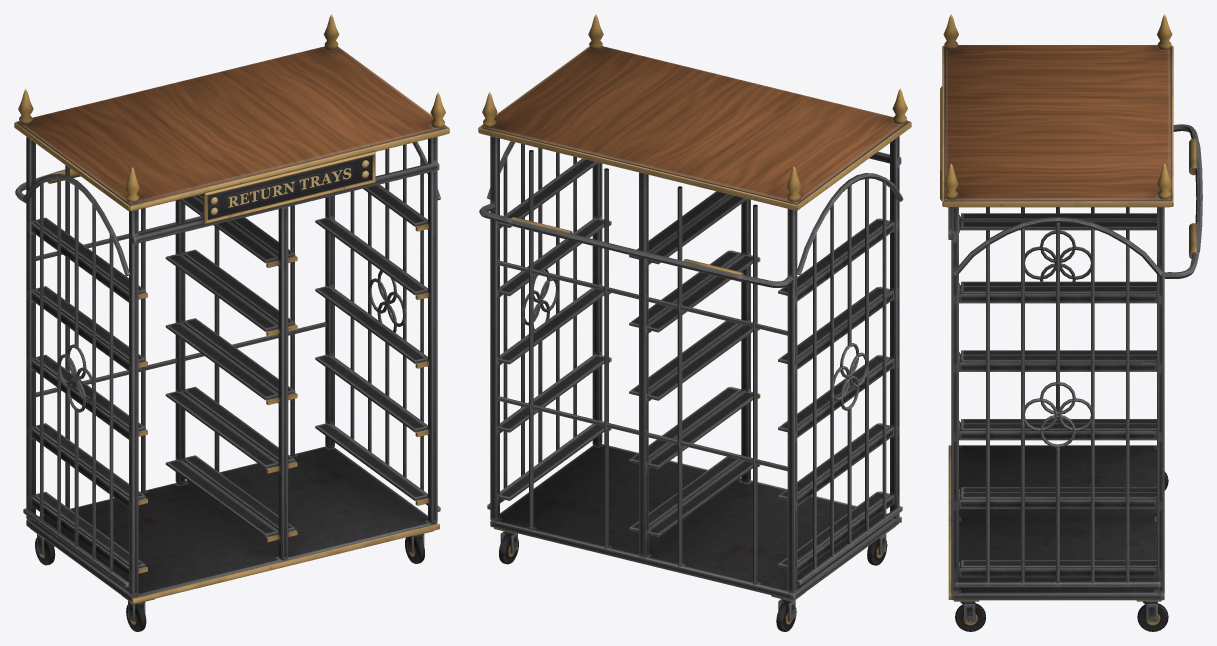
File: TrayTrolley.fbx
3 views of the same model, side by side, from view 1: azimuth 30°, elevation 25°; view 2: azimuth 150°, elevation 25°; view 3: azimuth 270°, elevation 25° (orthographic).
Visible parts, largest first — view 1: TrayTrolley; view 2: TrayTrolley; view 3: TrayTrolley.
Part boxes in pixels (x1,y1,x2,y2): TrayTrolley: (14, 14, 449, 631); TrayTrolley: (478, 14, 911, 631); TrayTrolley: (940, 14, 1202, 631).
Size of the model in its own units: 383 by 540 by 271.
